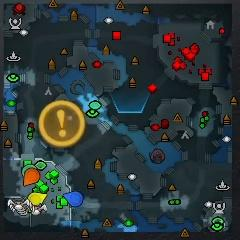Other: (38, 100, 86, 147)
p1: (64, 191, 84, 206)
p2: (21, 163, 36, 177)
p4: (28, 192, 48, 206)
p5: (23, 168, 40, 187)
